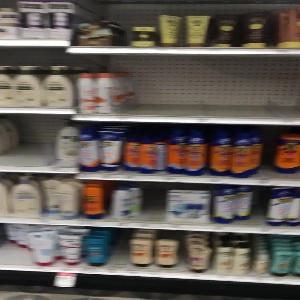void: (120, 55, 300, 112), (1, 119, 49, 165), (136, 182, 167, 222), (109, 228, 129, 267)
